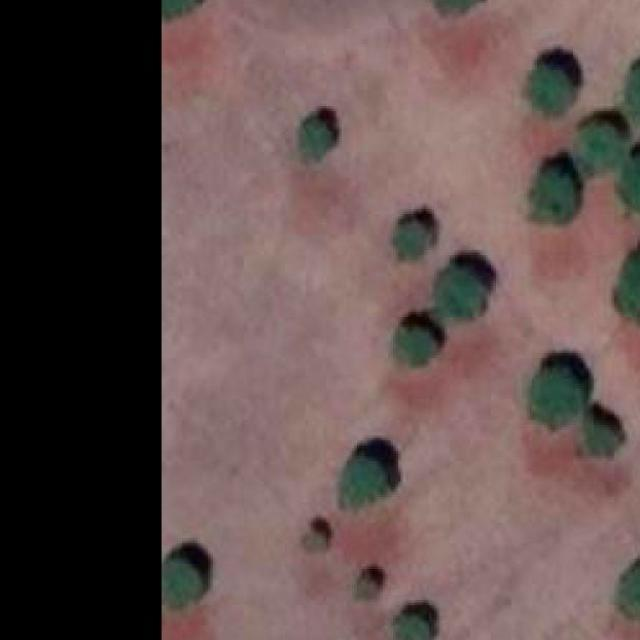Tree: (529, 365, 583, 425), (433, 267, 488, 317), (342, 456, 393, 507), (580, 121, 627, 173), (532, 68, 578, 119), (164, 554, 208, 603), (537, 168, 573, 224), (392, 220, 436, 264), (390, 605, 434, 640), (300, 116, 334, 160), (395, 322, 434, 358), (575, 423, 614, 457), (619, 253, 640, 315), (619, 154, 640, 214), (302, 524, 332, 554), (357, 571, 386, 600), (437, 0, 486, 16), (625, 563, 640, 615), (627, 59, 640, 116), (164, 0, 202, 19)
